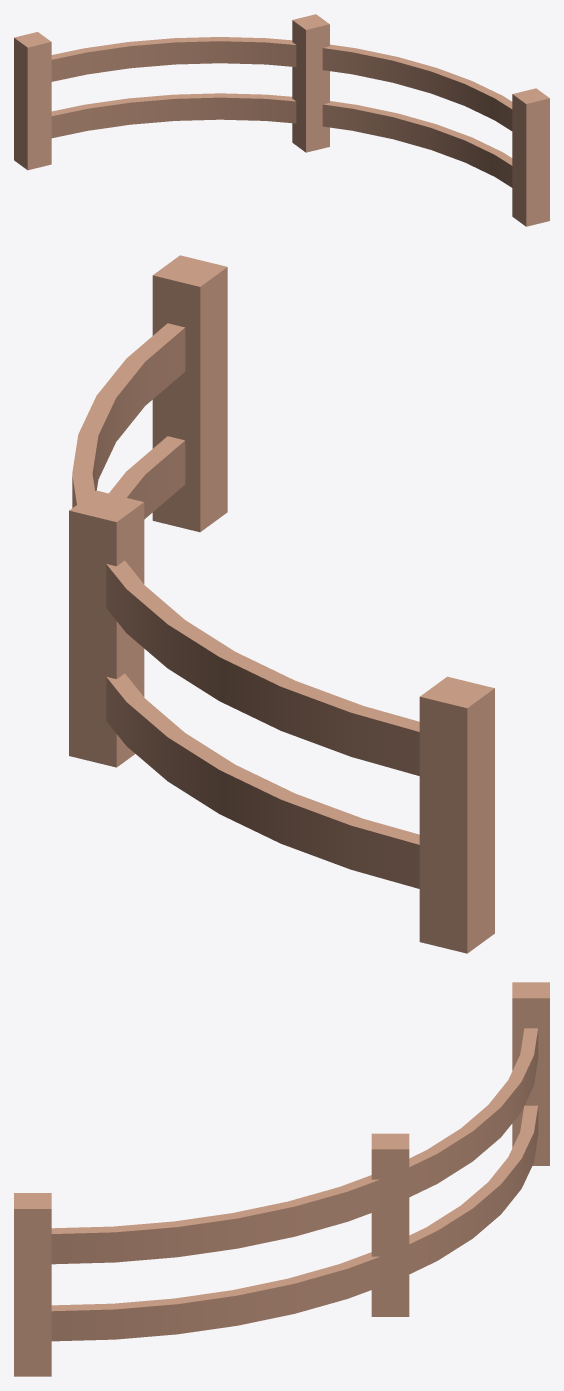
File: fence_bendCenter.glb
3 views of the same model, one above another, from view 1: azimuth 30°, elevation 25°; view 2: azimuth 150°, elevation 25°; view 3: azimuth 270°, elevation 25° (orthographic). The views are drawn at different scales.
Parts seen in each view (by area): view 1: fence_bendCenter; view 2: fence_bendCenter; view 3: fence_bendCenter.
Part boxes in pixels (box(x1,y1,x2,y2)): fence_bendCenter: box(14, 14, 549, 226); fence_bendCenter: box(69, 255, 494, 953); fence_bendCenter: box(14, 982, 549, 1376).
Size of the model in its own units: 1 by 0.345 by 1.
